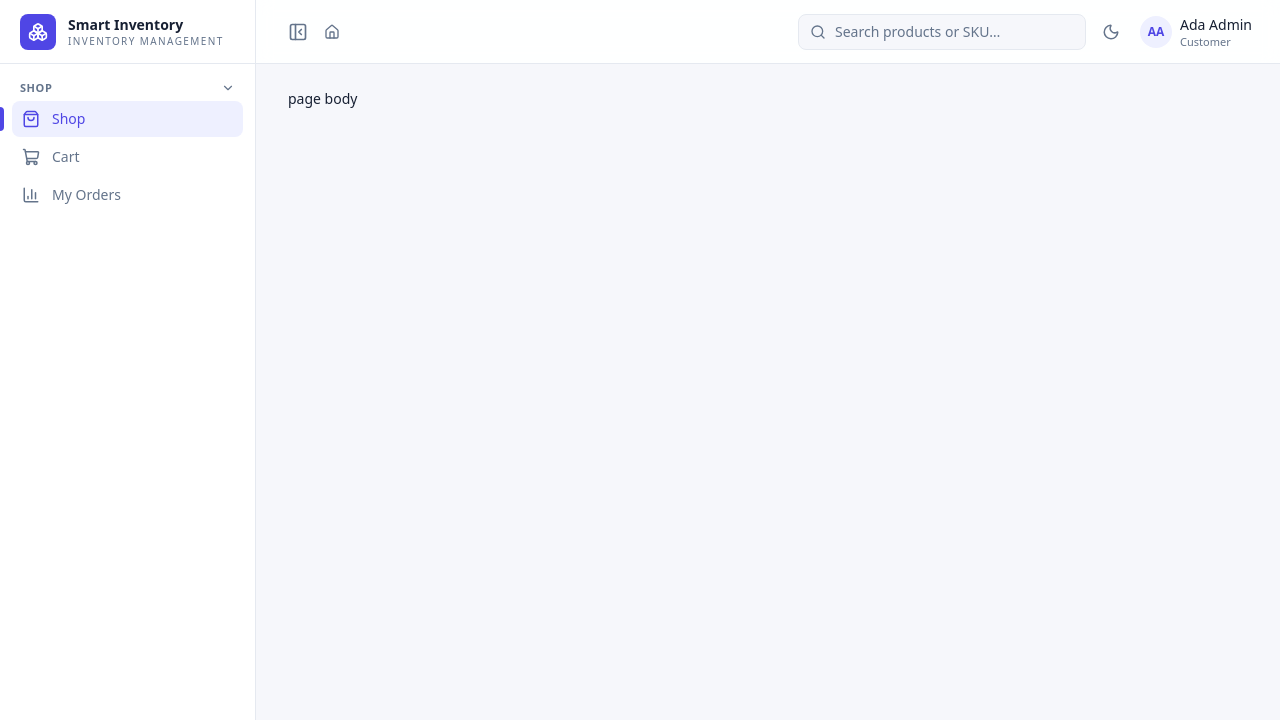
DashboardLayout responsive navigation and shell › renders the page, a skip link, search and the user menu
Expected: the text "page body" is shown, [288,89,358,108]
Expected: the form is shown, [798,14,1086,50]
Step 1. Click the button with aria-label "Open user menu" → (1196, 32), box [1136,11,1256,52]
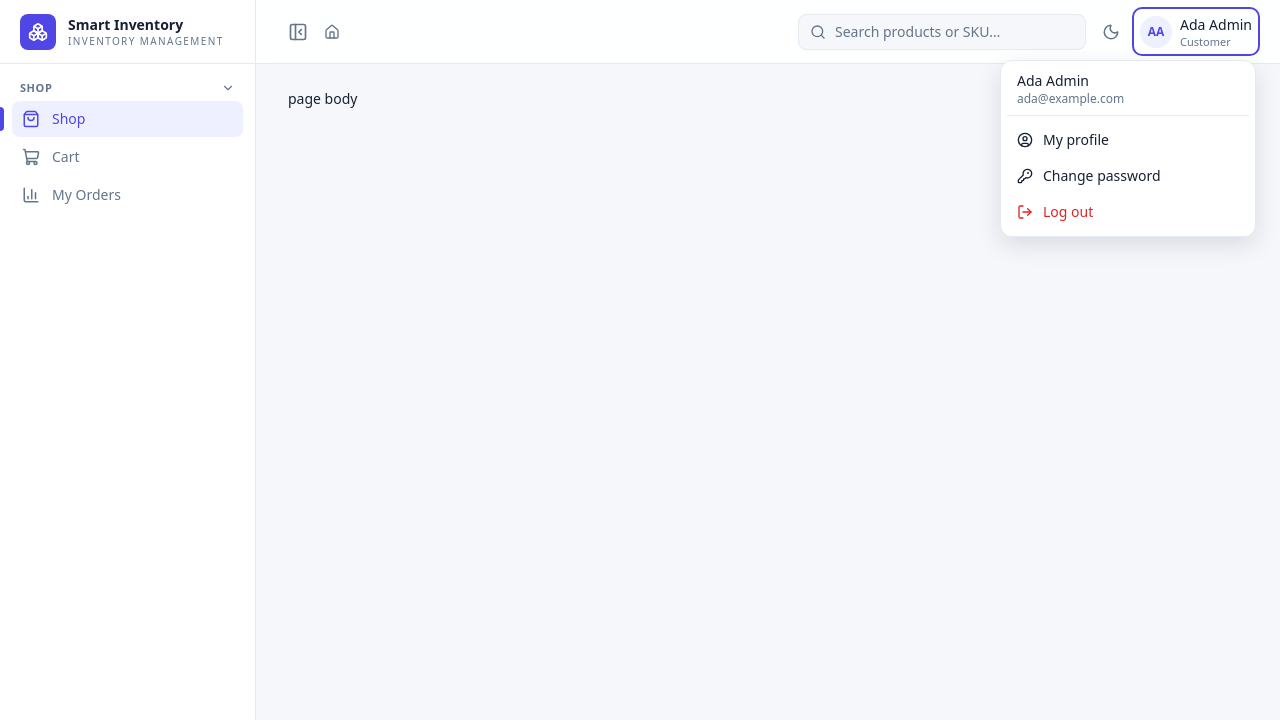
Result: the button "My profile" is shown at [1007,122,1249,158]
Result: the button "Log out" is shown at [1007,194,1249,230]
